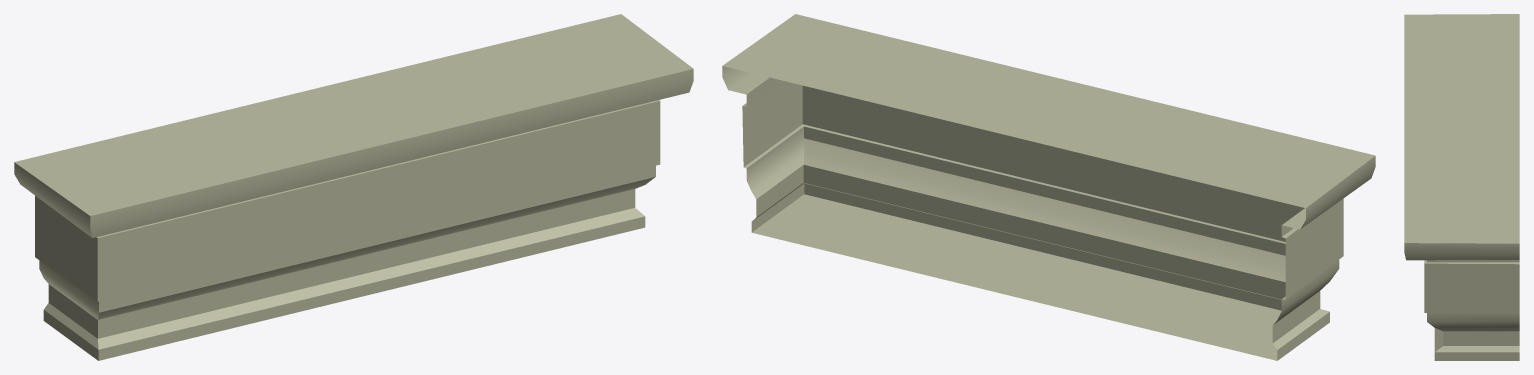
The model's file is SM_castlebase002.fbx.
3 renders of one model, left to right at view 1: azimuth 30°, elevation 25°; view 2: azimuth 150°, elevation 25°; view 3: azimuth 270°, elevation 25°, orthographic. The views are drawn at different scales.
Visible parts, largest first — view 1: SM_castlebase002; view 2: SM_castlebase002; view 3: SM_castlebase002.
Boxes of the visible parts, x1,y1,x2,y2 form: SM_castlebase002: [14, 14, 693, 360]; SM_castlebase002: [722, 14, 1375, 360]; SM_castlebase002: [1404, 14, 1519, 360].
Bounding box in the file's own units: 472 × 123 × 100.
